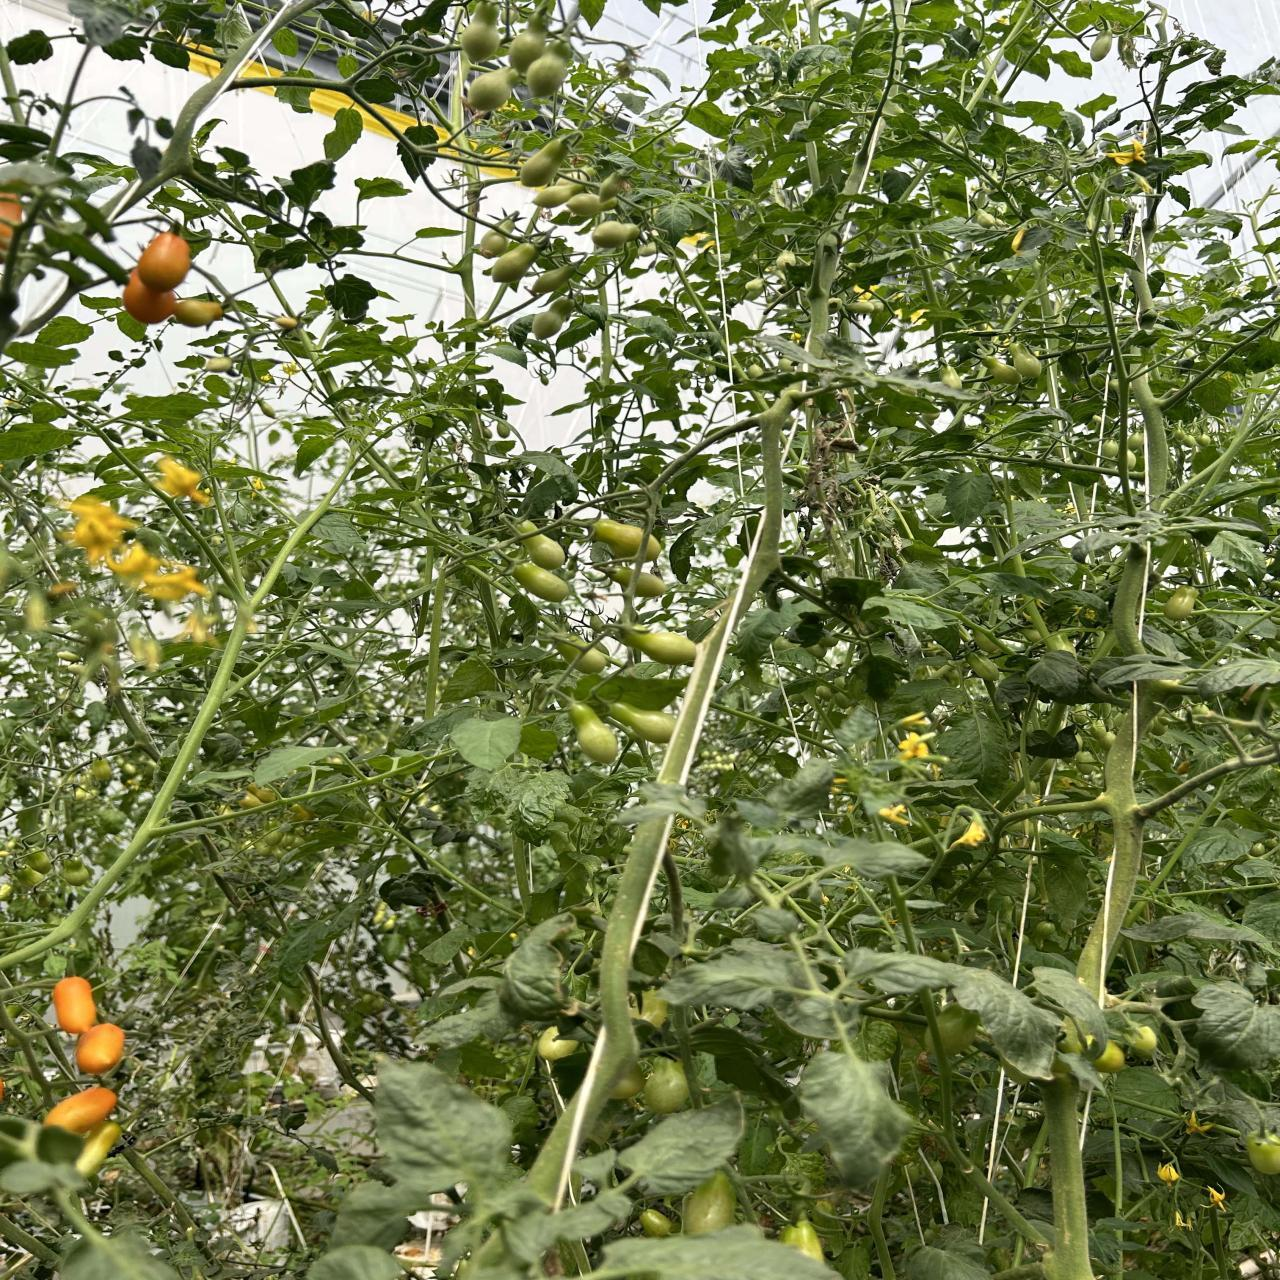Rugose Flower: (1157, 1160, 1182, 1186), (1205, 1186, 1226, 1210), (1171, 1210, 1193, 1230)
Rugose leaf: (375, 1062, 512, 1191), (799, 1050, 913, 1187), (952, 967, 1061, 1078), (619, 1097, 743, 1194), (660, 942, 803, 1010), (497, 913, 578, 1022), (1192, 982, 1280, 1071), (274, 898, 361, 979), (468, 764, 570, 830), (416, 992, 516, 1049), (843, 948, 962, 995), (450, 717, 522, 770), (785, 45, 846, 83), (311, 511, 362, 549), (653, 202, 696, 246), (717, 148, 754, 191)
Rugose stem: (19, 502, 326, 959), (530, 809, 675, 1210), (658, 399, 791, 798), (1076, 685, 1143, 1008), (1043, 1071, 1091, 1280), (1130, 373, 1170, 510), (806, 231, 838, 356), (1112, 544, 1148, 656), (457, 179, 478, 319), (449, 50, 470, 149)
Rugose tomato: (43, 1087, 116, 1135), (682, 1171, 736, 1235), (136, 232, 191, 292), (123, 266, 177, 325), (568, 702, 619, 763), (610, 702, 676, 744), (621, 627, 696, 665), (76, 1122, 122, 1178), (52, 976, 96, 1034), (459, 0, 501, 62), (645, 1057, 689, 1114), (76, 1023, 124, 1075), (465, 67, 520, 110), (517, 520, 565, 570), (513, 561, 568, 602), (519, 138, 566, 186), (475, 212, 519, 259), (490, 244, 539, 286), (553, 640, 611, 674), (525, 52, 567, 97), (593, 519, 642, 558), (781, 1219, 824, 1262), (530, 297, 573, 340), (509, 30, 545, 74), (536, 1027, 579, 1061), (1247, 1132, 1280, 1175), (532, 265, 579, 294), (566, 191, 610, 223), (532, 182, 583, 207), (592, 220, 640, 247), (176, 299, 223, 326), (1163, 586, 1198, 620), (1010, 342, 1042, 379), (1091, 1042, 1125, 1073), (985, 358, 1021, 383), (640, 1208, 672, 1238), (1126, 1026, 1157, 1054), (1090, 26, 1114, 62), (634, 573, 666, 598), (772, 248, 803, 272), (973, 209, 1005, 229), (605, 566, 632, 587), (940, 365, 962, 388), (744, 277, 763, 300), (1099, 440, 1119, 461), (1126, 449, 1144, 472), (1126, 431, 1143, 452), (1191, 433, 1213, 448), (646, 537, 660, 559), (1130, 433, 1139, 440)
